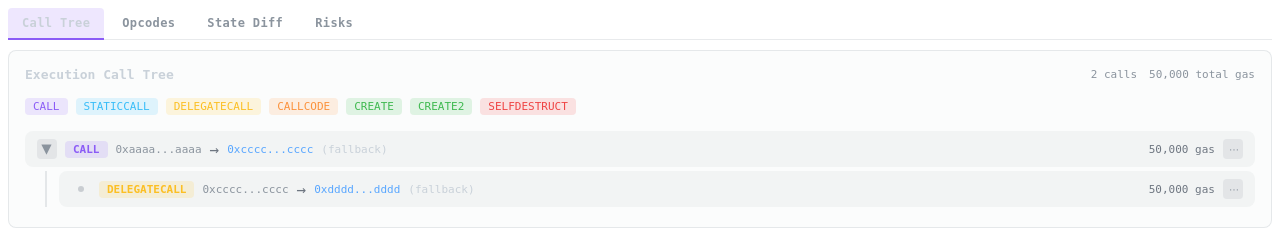
Test: FullDebuggerLayout › switches tabs when clicked and shows opcodes empty state
Click the tab "Opcodes" at [149, 23], box 122,16 -> 175,30
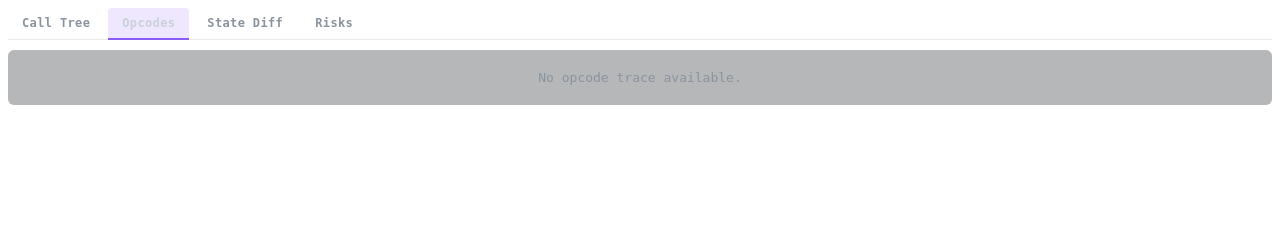
Check: the text "No opcode trace available." is shown, box 8,50 -> 1272,105
